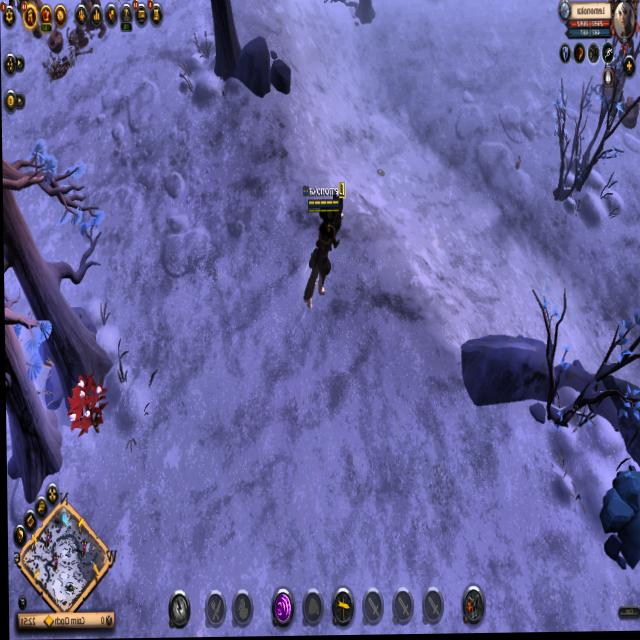fiber tier 5: (63, 372, 107, 453)
